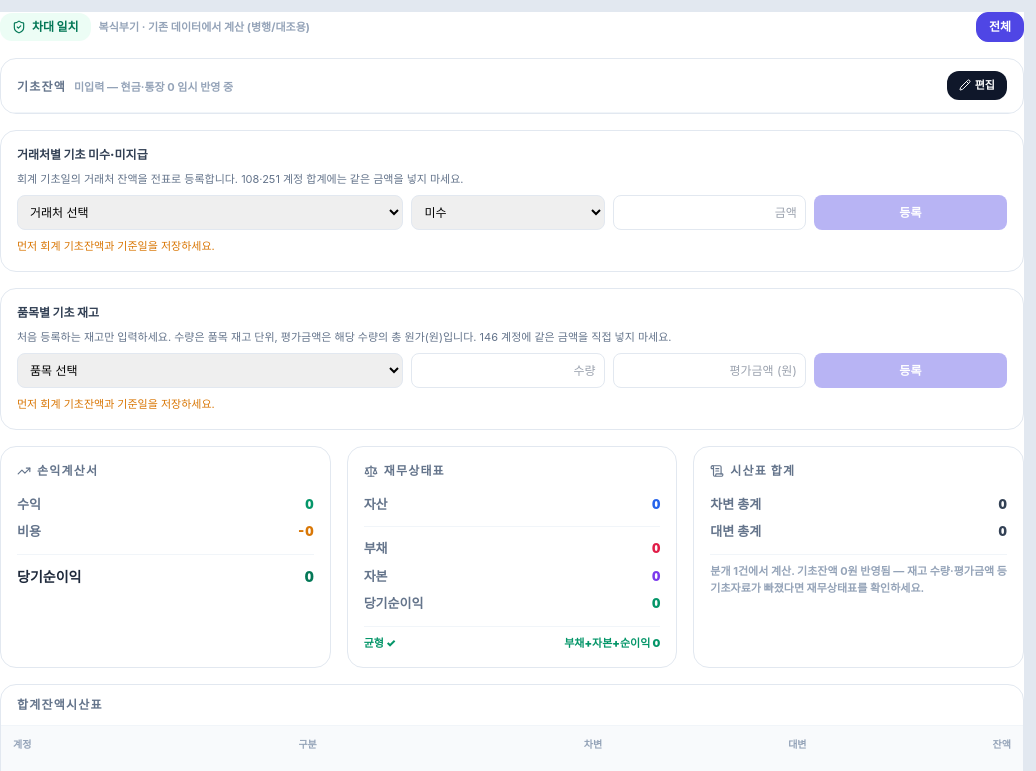
it: 기존 회사 계정표와 입력행은 그대로 보존하고 빈 회사 등록폼을 끼우지 않는다
Click the button "편집": point(977, 85) x1=947 y1=71 x2=1007 y2=100
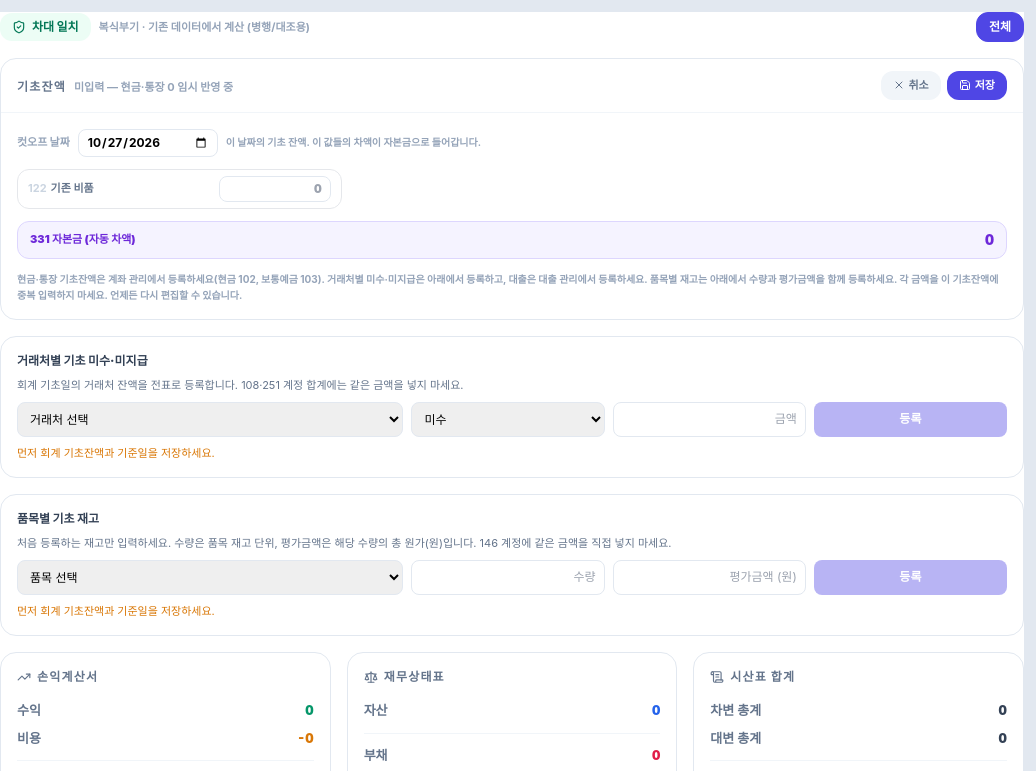
expect the field labelled "122기존 비품" is enabled: met, box x1=219 y1=176 x2=331 y2=202
